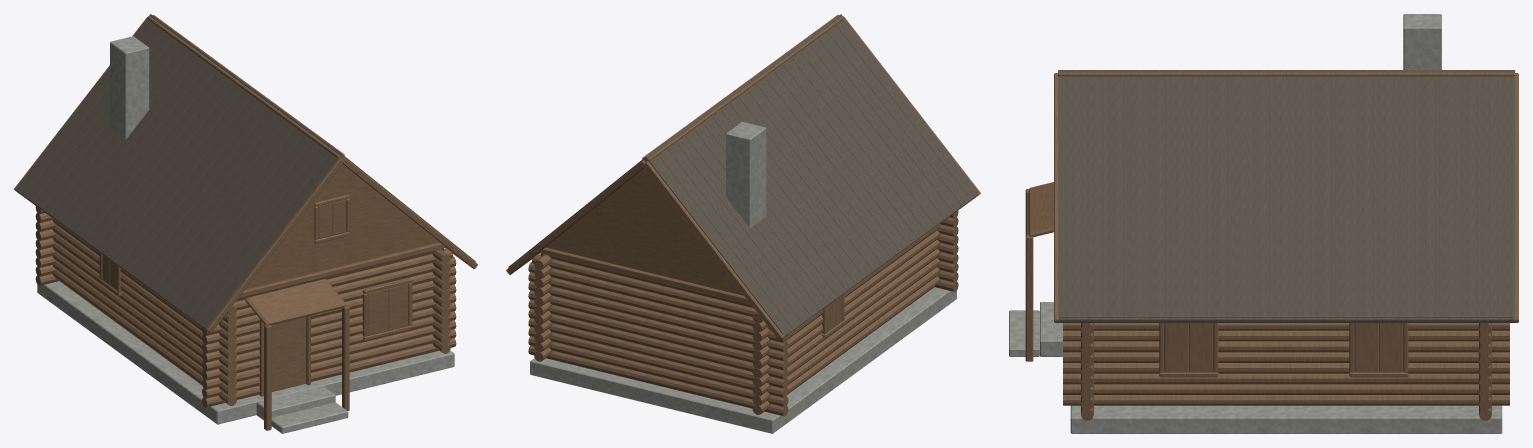
Rendered from h01_closed.glb.
3 renders of one model, left to right at view 1: azimuth 30°, elevation 25°; view 2: azimuth 150°, elevation 25°; view 3: azimuth 270°, elevation 25°, orthographic. The views are drawn at different scales.
Visible parts, largest first — view 1: H01_roof_left, H01_wall_front, H01_wall_left, H01_gable_front, H01_foundation, H01_entry_canopy, H01_chimney, H01_verge_-1_-1, H01_step0, H01_entry_leaf0, H01_wall_right, H01_ridge (+6 smaller); view 2: H01_roof_left, H01_wall_rear, H01_gable_rear, H01_wall_left, H01_foundation, H01_chimney, H01_verge_1_-1, H01_wall_right, H01_ridge, H01_wall_front, H01_roof_right; view 3: H01_roof_right, H01_wall_right, H01_foundation, H01_entry_canopy, H01_ridge, H01_step0, H01_chimney, H01_wall_front, H01_wall_rear, H01_living_right_shutterr, H01_sleeping_right_shutterl, H01_sleeping_right_shutterr (+3 smaller).
Part boxes in pixels (<box>): H01_roof_left: <box>16,14,341,329</box>; H01_wall_front: <box>202,194,456,407</box>; H01_wall_left: <box>52,219,236,405</box>; H01_gable_front: <box>245,164,438,289</box>; H01_foundation: <box>37,281,454,424</box>; H01_entry_canopy: <box>245,279,349,430</box>; H01_chimney: <box>110,36,149,139</box>; H01_verge_-1_-1: <box>205,157,477,333</box>; H01_step0: <box>256,386,348,433</box>; H01_entry_leaf0: <box>271,317,306,391</box>; H01_wall_right: <box>432,249,450,353</box>; H01_ridge: <box>147,15,344,158</box>; H01_roof_left: <box>645,14,978,336</box>; H01_wall_rear: <box>528,247,788,416</box>; H01_gable_rear: <box>546,168,743,295</box>; H01_wall_left: <box>752,224,941,414</box>; H01_foundation: <box>530,287,956,433</box>; H01_chimney: <box>726,122,766,227</box>; H01_verge_1_-1: <box>506,160,785,340</box>; H01_wall_right: <box>534,254,552,361</box>; H01_ridge: <box>642,15,844,161</box>; H01_wall_front: <box>934,210,958,291</box>; H01_roof_right: <box>508,14,840,271</box>; H01_roof_right: <box>1058,70,1514,322</box>; H01_wall_right: <box>1063,323,1509,405</box>; H01_foundation: <box>1070,405,1502,433</box>; H01_entry_canopy: <box>1025,182,1053,361</box>; H01_ridge: <box>1058,70,1514,78</box>; H01_step0: <box>1009,302,1062,356</box>; H01_chimney: <box>1403,14,1441,69</box>; H01_wall_front: <box>1081,323,1093,420</box>; H01_wall_rear: <box>1479,323,1491,420</box>; H01_living_right_shutterr: <box>1189,323,1213,372</box>; H01_sleeping_right_shutterl: <box>1354,323,1378,372</box>; H01_sleeping_right_shutterr: <box>1379,323,1403,372</box>.
Size of the model in its own units: 7.28 by 6.65 by 9.92.
3 materials, 3 textured.
